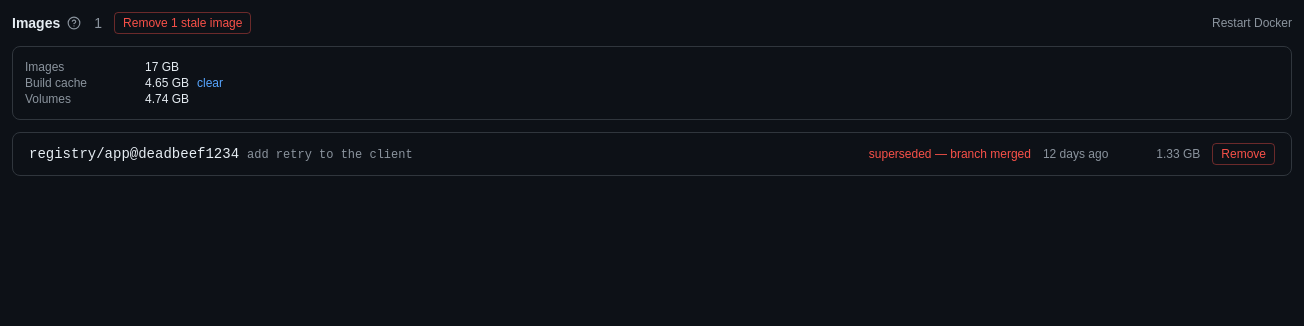
Test case: DockerPage › shows the full identity and provenance when a row is expanded
Expected: the text "Built from" is not shown
Step 1. Click the button "registry/app@deadbeef1234add retry to the client" → (134,154), box [29,144,857,164]
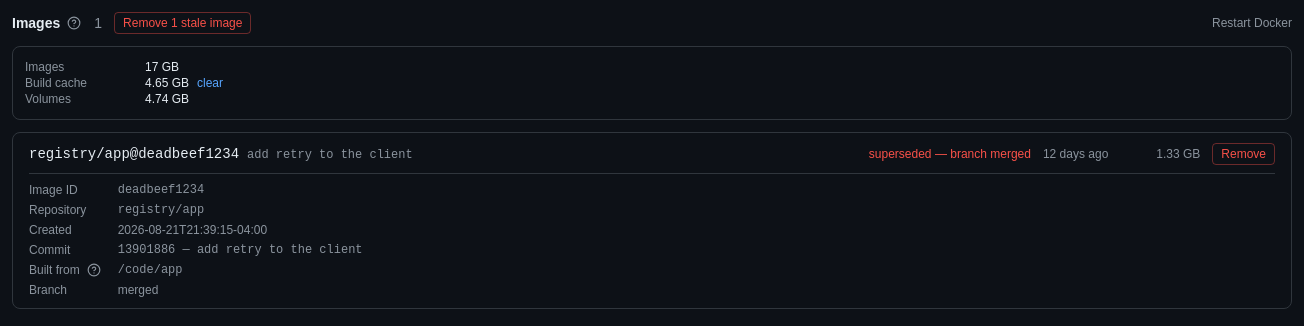
Expected: the text "Image ID" is shown, [29,183,78,197]
Expected: the text "Built from" is shown, [29,262,102,278]
Expected: the text "13901886 — add retry to the client" is shown, [118,243,363,257]
